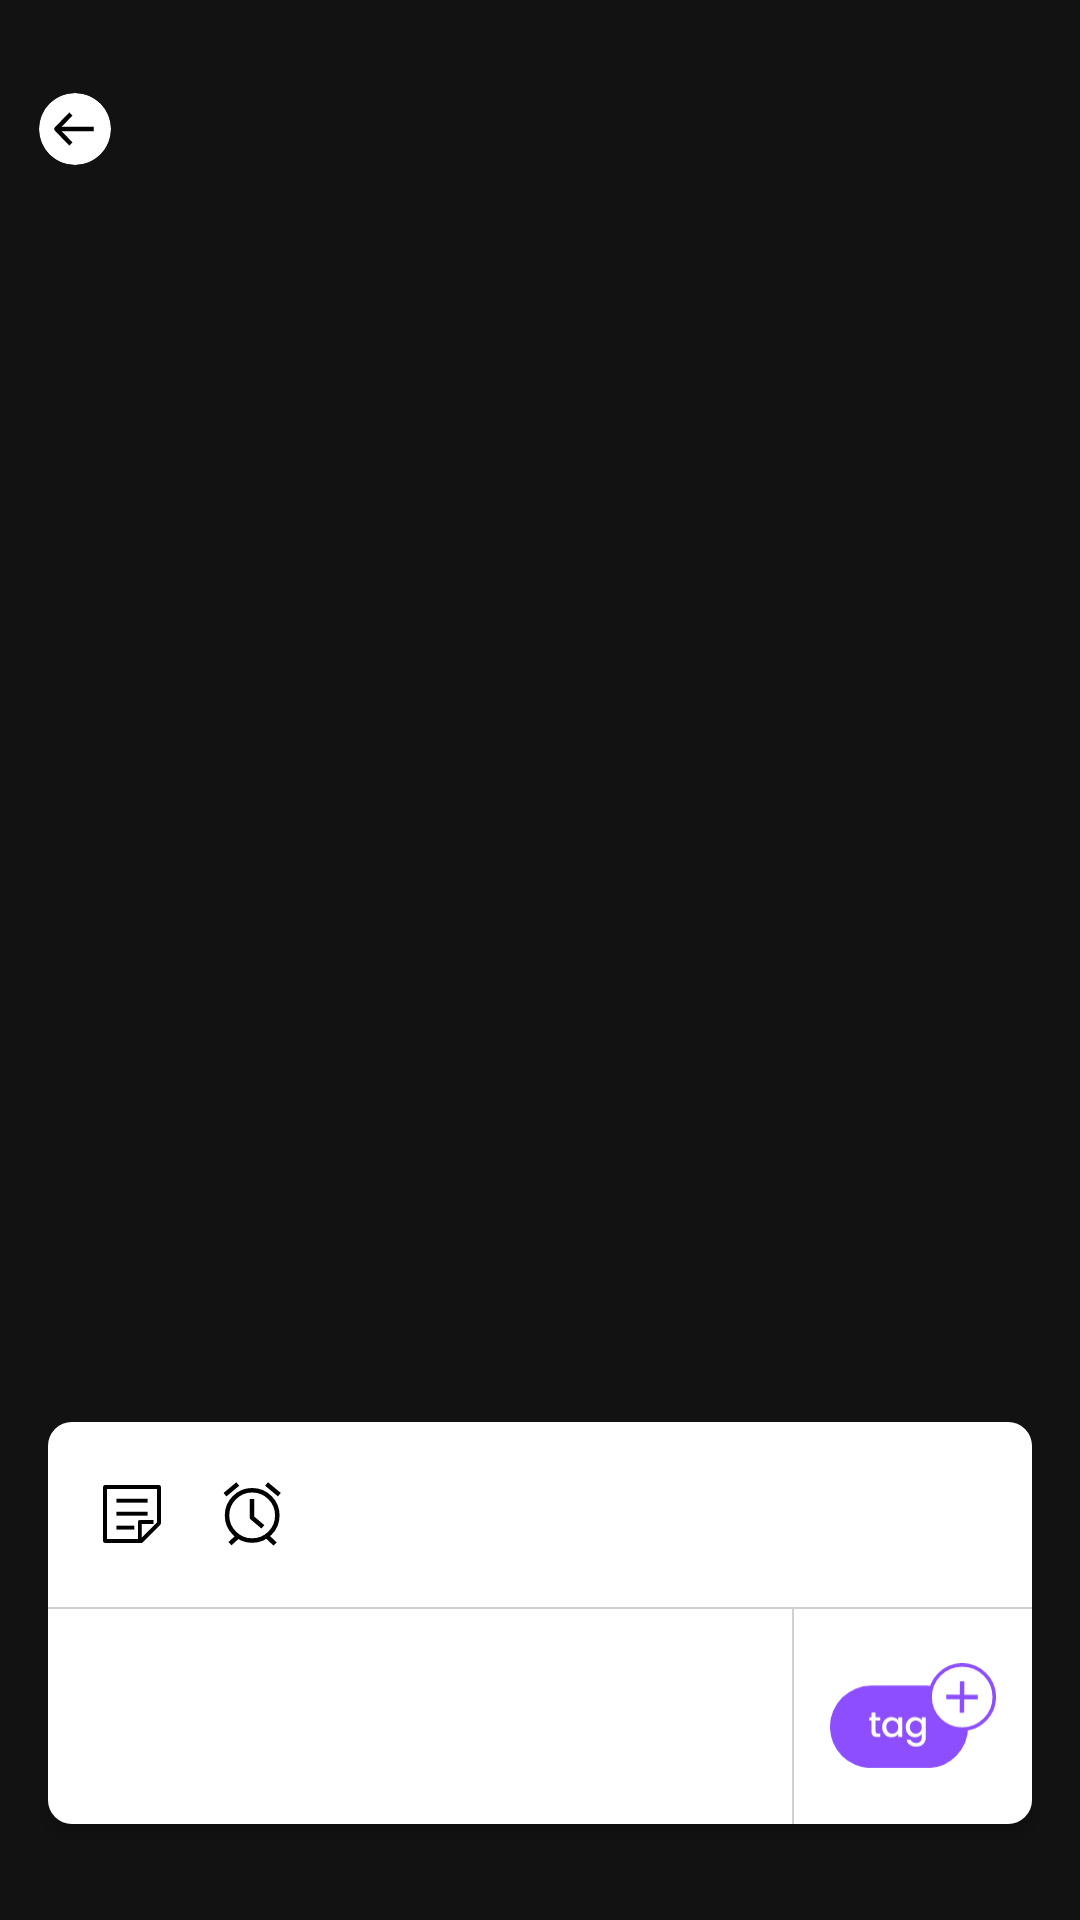

Icons on this 1080 × 1920 Android screen, each with its box as rect(x1, y1, x2, y2):
alarm: rect(224, 1482, 281, 1546)
back: rect(39, 93, 111, 165)
memo: rect(103, 1485, 161, 1543)
